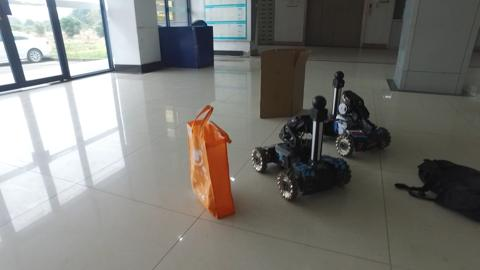bag: (187, 105, 235, 219)
box: (260, 48, 305, 112)
chariot: (252, 94, 349, 206), (330, 69, 389, 156)
